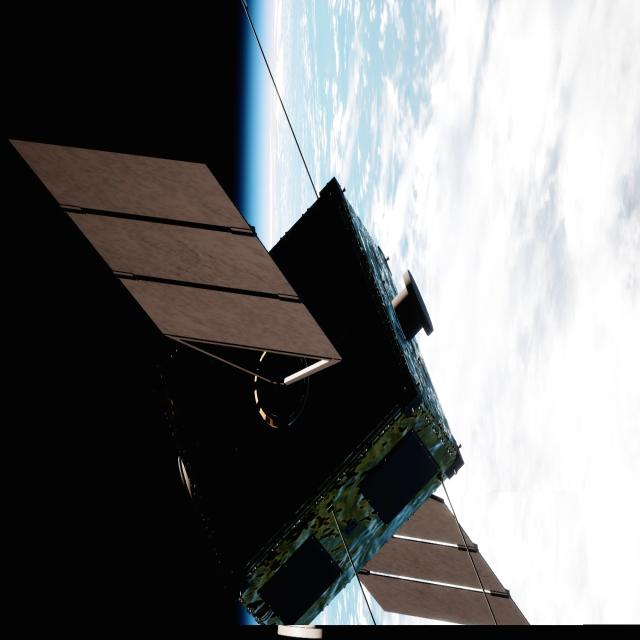satellite: (11, 142, 526, 628)
